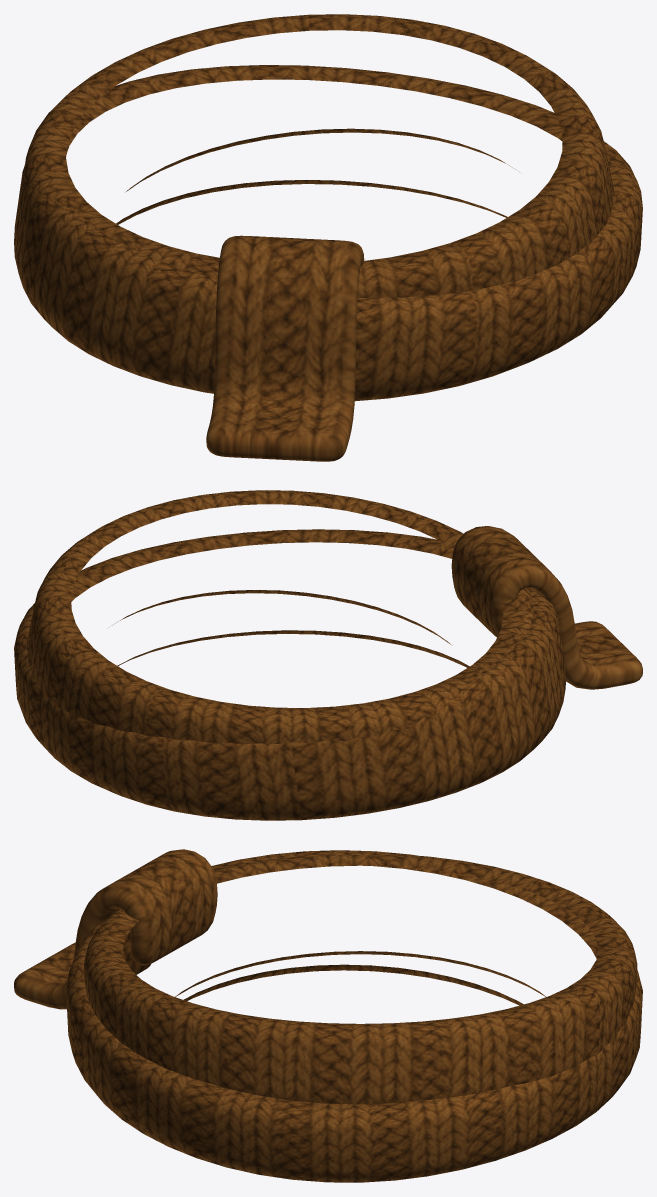
File: echarpe.glb
3 renders of one model, top to bottom at view 1: azimuth 30°, elevation 25°; view 2: azimuth 150°, elevation 25°; view 3: azimuth 270°, elevation 25°, orthographic. The views are drawn at different scales.
Parts seen in each view (by area): view 1: Cylinder002, Cylinder003, Box001; view 2: Cylinder002, Cylinder003, Box001; view 3: Cylinder003, Cylinder002, Box001.
Part boxes in pixels (x1=…): Cylinder002: x1=14, y1=65, x2=642, y2=401; Cylinder003: x1=23, y1=14, x2=613, y2=297; Box001: x1=206, y1=235, x2=364, y2=461; Cylinder002: x1=14, y1=529, x2=566, y2=820; Cylinder003: x1=26, y1=490, x2=533, y2=744; Box001: x1=451, y1=526, x2=642, y2=689; Cylinder003: x1=84, y1=855, x2=637, y2=1104; Cylinder002: x1=66, y1=850, x2=642, y2=1182; Box001: x1=14, y1=849, x2=217, y2=1009.
Size of the model in its own units: 2.32 by 0.6428 by 2.51.
Materials: 1 (1 with a texture image).
